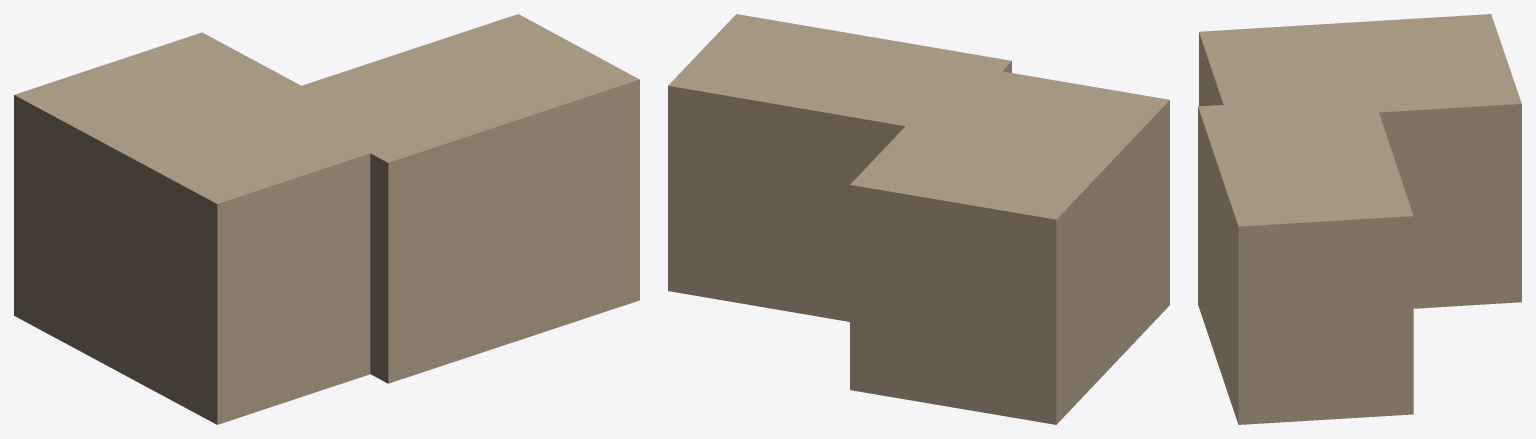
Rendered from bld_107639238.dae.
3 renders of one model, left to right at view 1: azimuth 30°, elevation 25°; view 2: azimuth 150°, elevation 25°; view 3: azimuth 270°, elevation 25°, orthographic. The views are drawn at different scales.
Parts seen in each view (by area): view 1: bld_107639238; view 2: bld_107639238; view 3: bld_107639238.
Boxes of the visible parts, left/top/right/bottom form: bld_107639238: left=14, top=14, right=639, bottom=424; bld_107639238: left=668, top=14, right=1169, bottom=424; bld_107639238: left=1198, top=14, right=1521, bottom=424.
Bounding box in the file's own units: 18.39 × 11.84 × 8.
